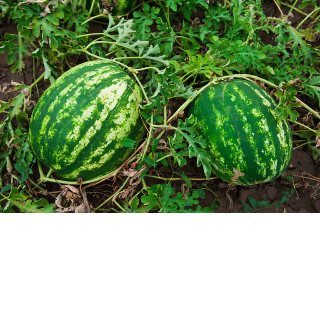dua_hau: (26, 56, 147, 188), (189, 76, 294, 189)
